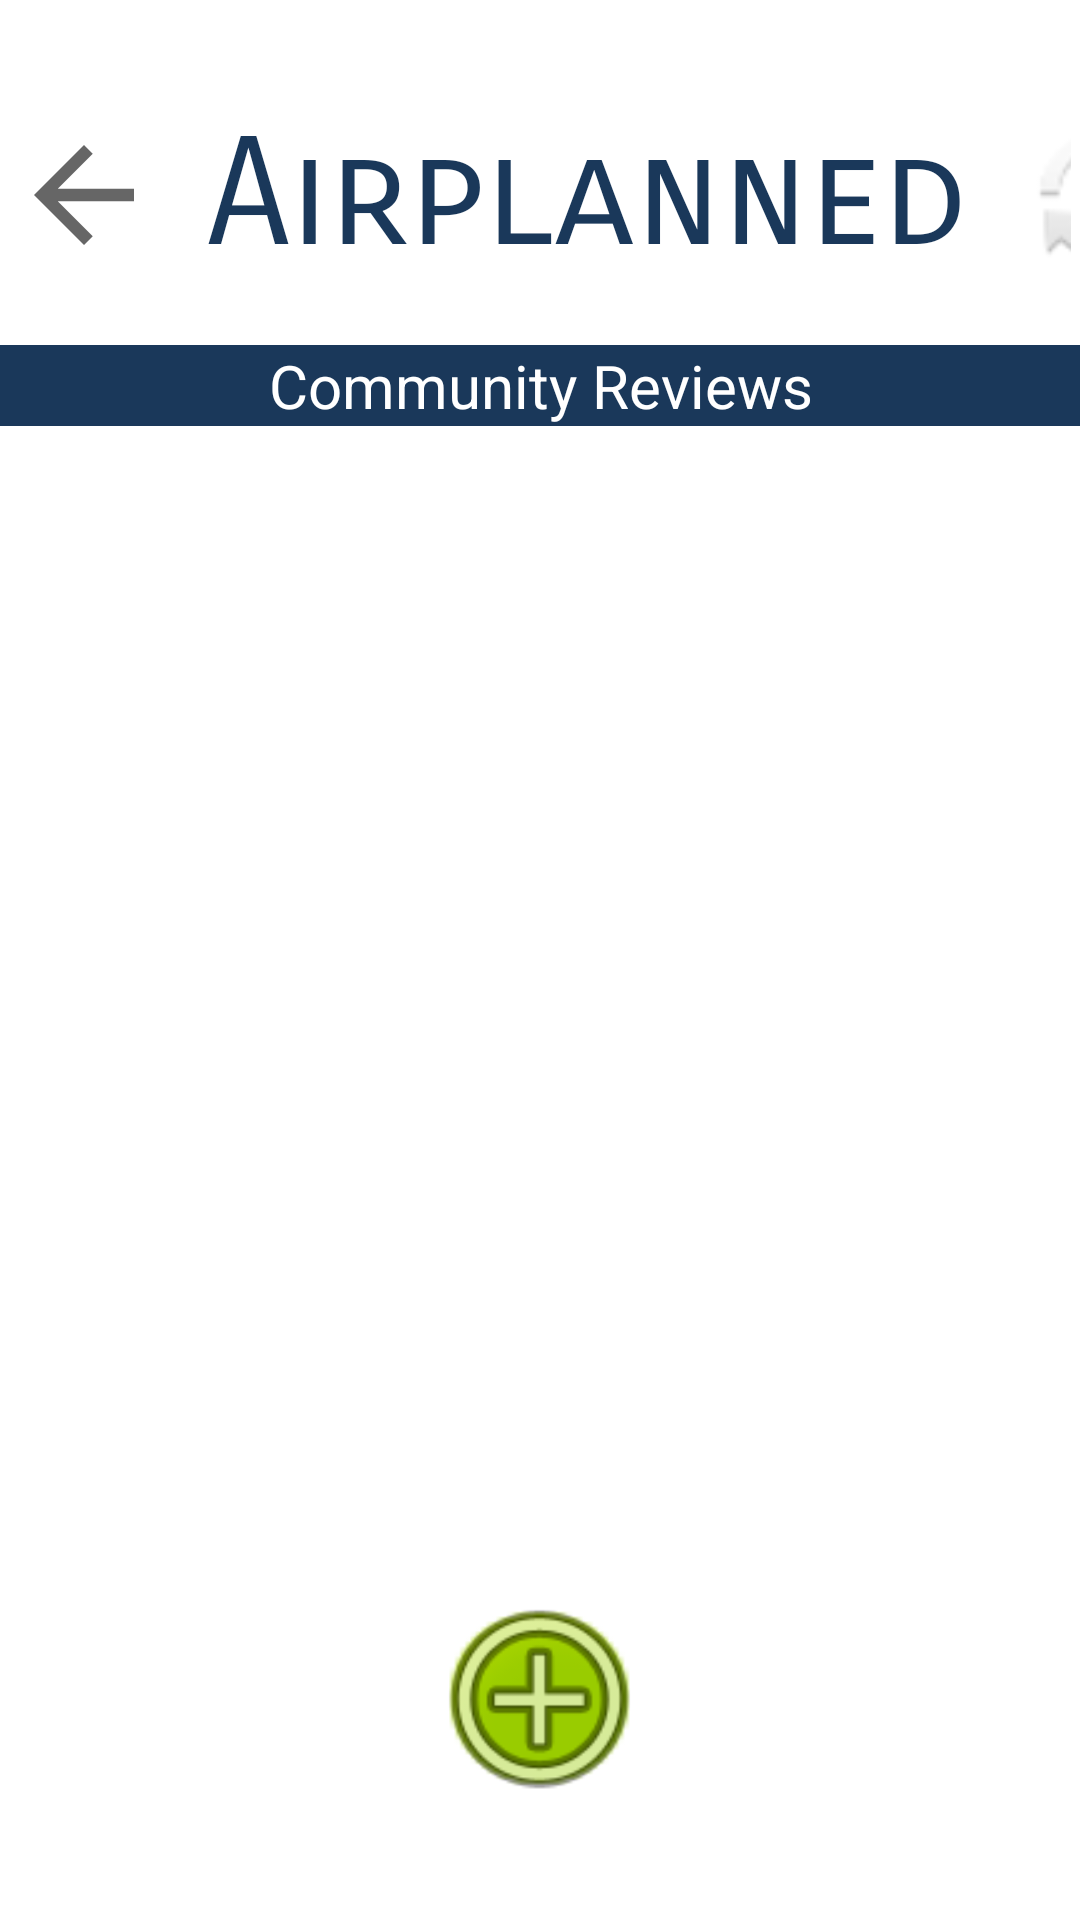

Named icons in this screenshot (1080x1920) and their centers, [x,y]:
add: [539,1699]
